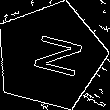N_W: (19, 30, 81, 82)
